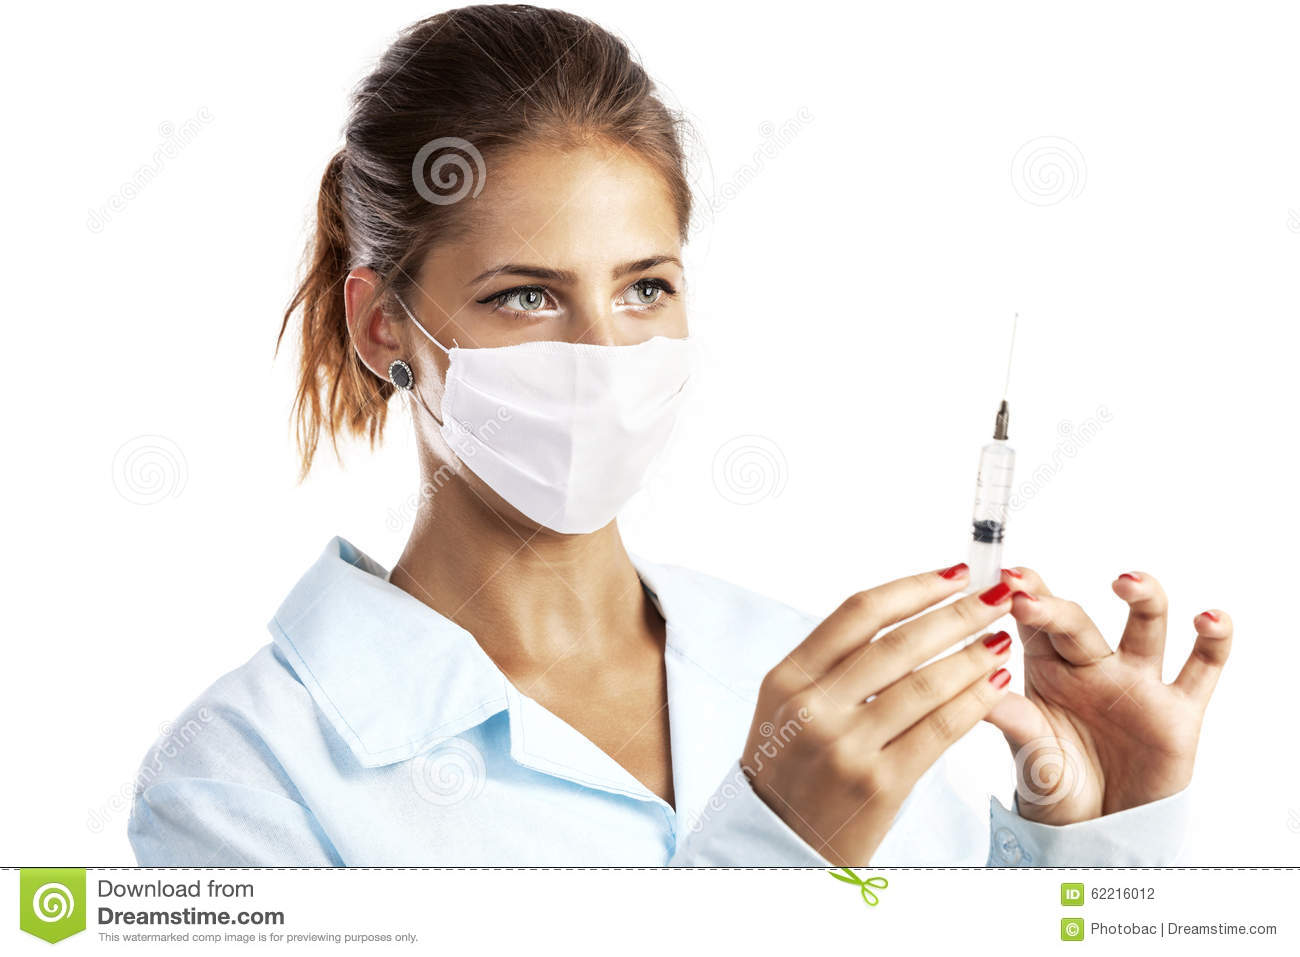mask: (425, 332, 707, 545)
